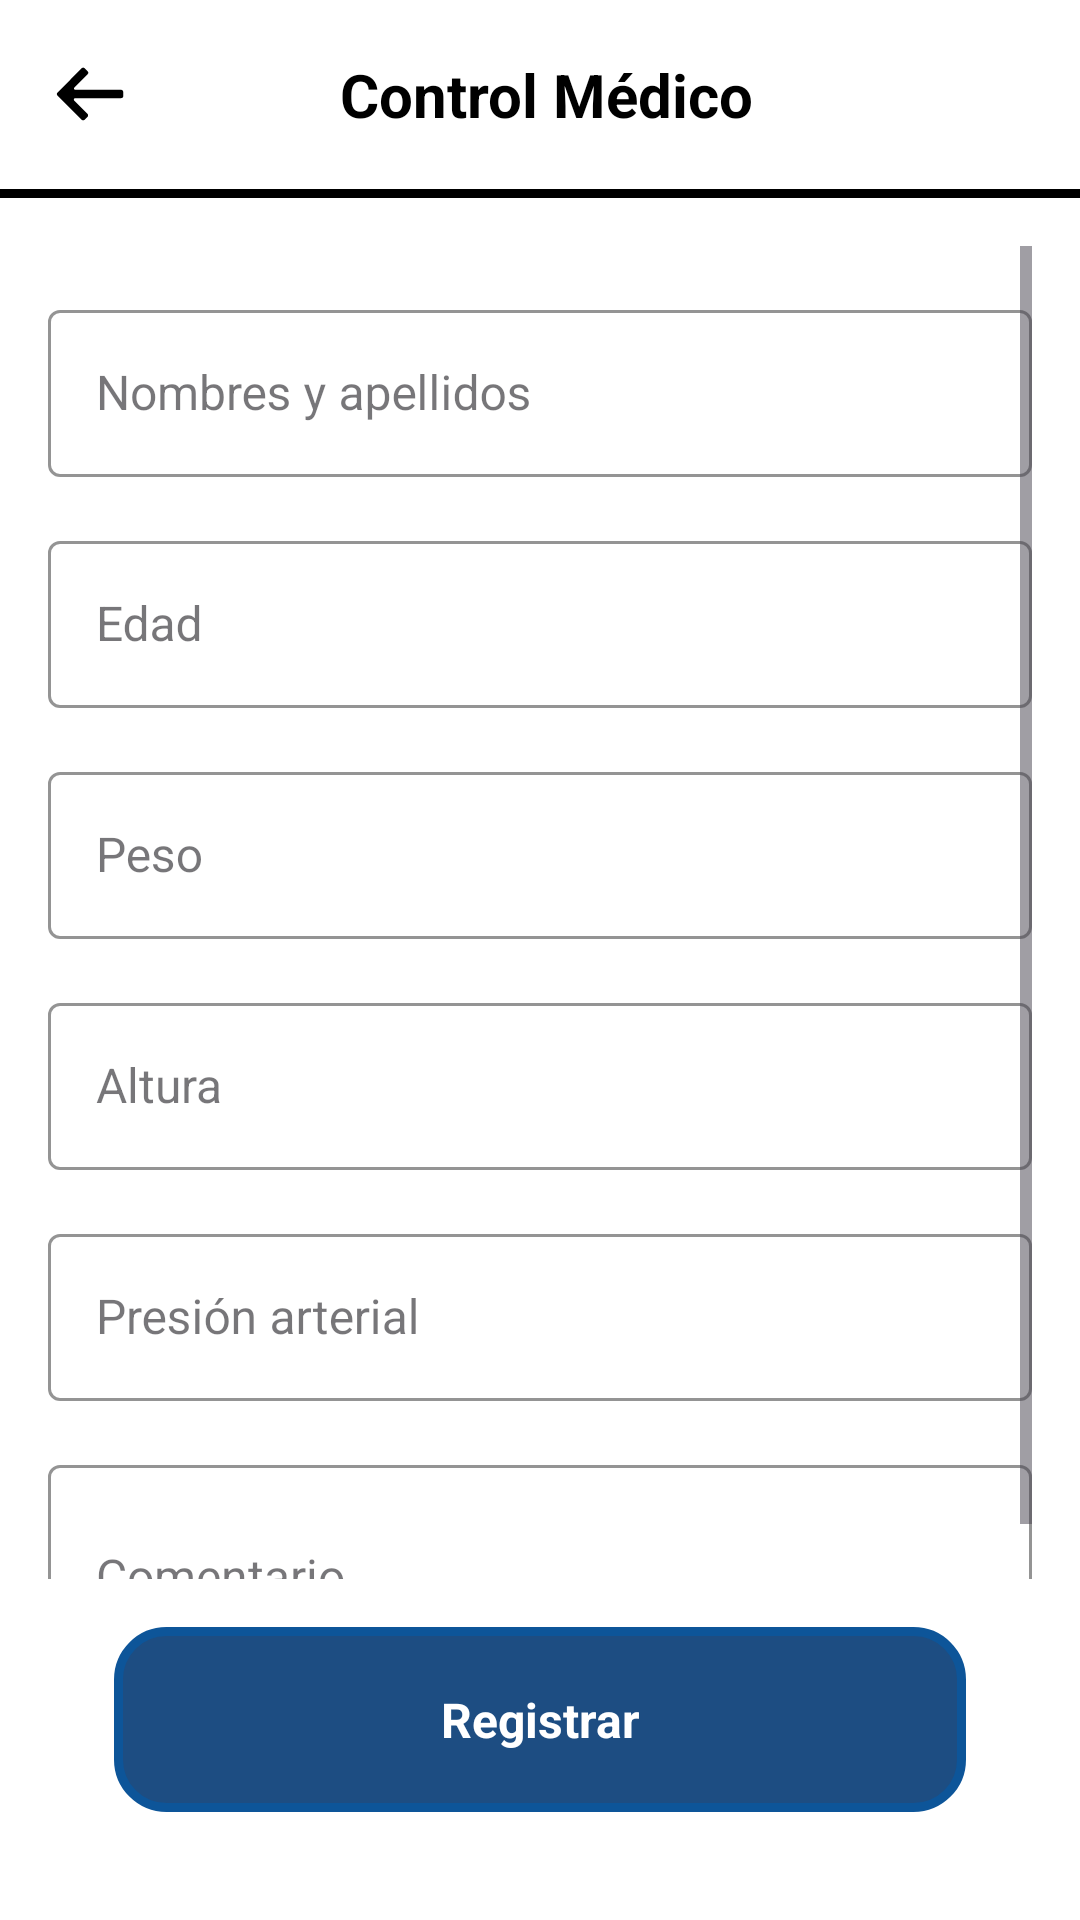

Point at icon controls on the screen. Image size 1080×1920, points as point (x, y).
Volver: point (90, 94)
